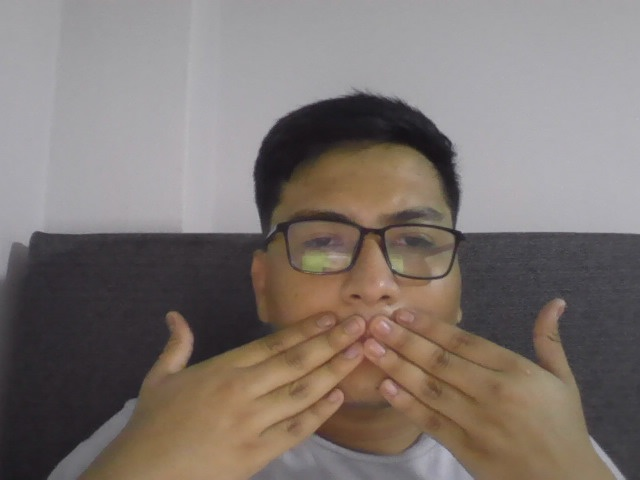Thanks: (116, 286, 601, 480)
